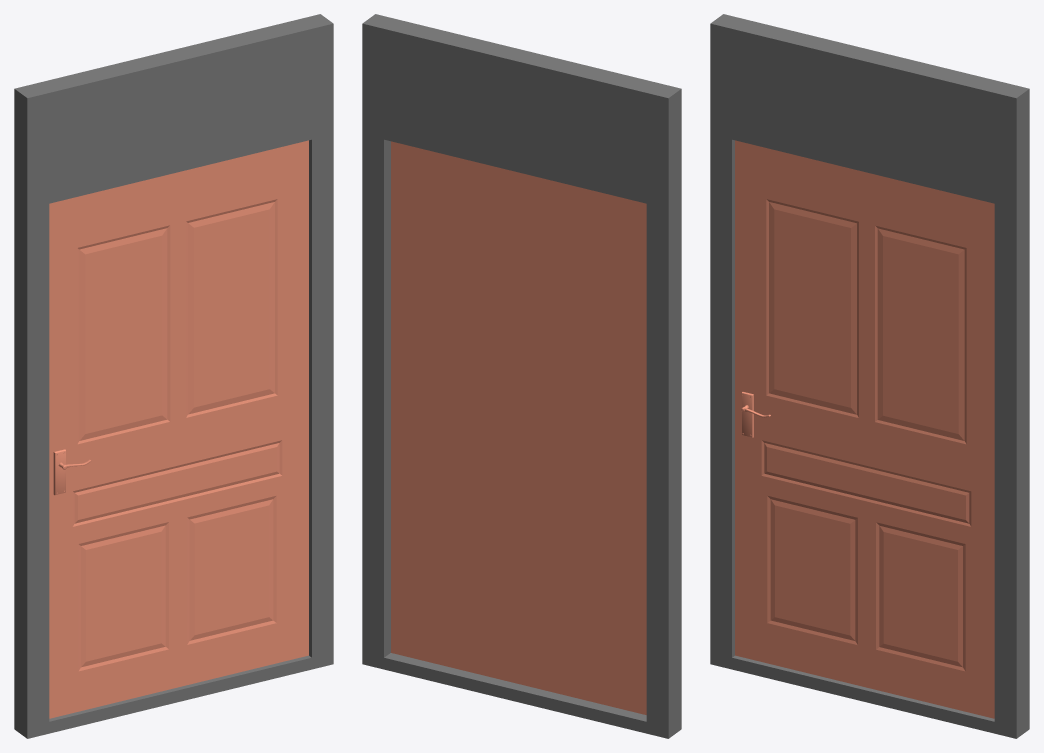
Rendered from SM_Door_LP.fbx.
3 renders of one model, left to right at view 1: azimuth 30°, elevation 25°; view 2: azimuth 150°, elevation 25°; view 3: azimuth 330°, elevation 25°, orthographic.
Visible parts, largest first — view 1: Box005; view 2: Box005; view 3: Box005.
Part boxes in pixels (x1,y1,x2,y2): Box005: (14, 14, 333, 738); Box005: (362, 14, 681, 738); Box005: (710, 14, 1029, 738).
Size of the model in its own units: 1350 by 2700 by 121.
